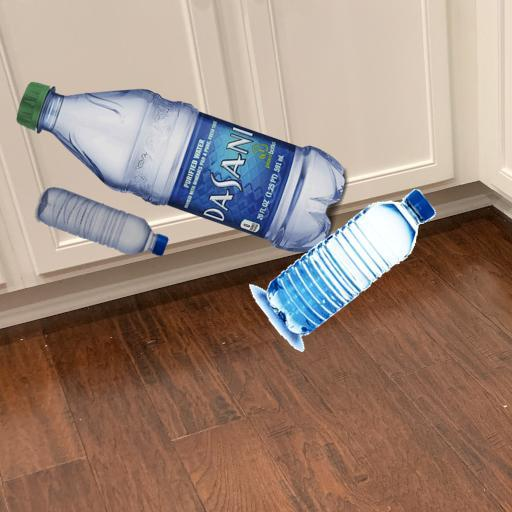bottle: (30, 172, 173, 279), (240, 250, 445, 289), (0, 0, 199, 31)
